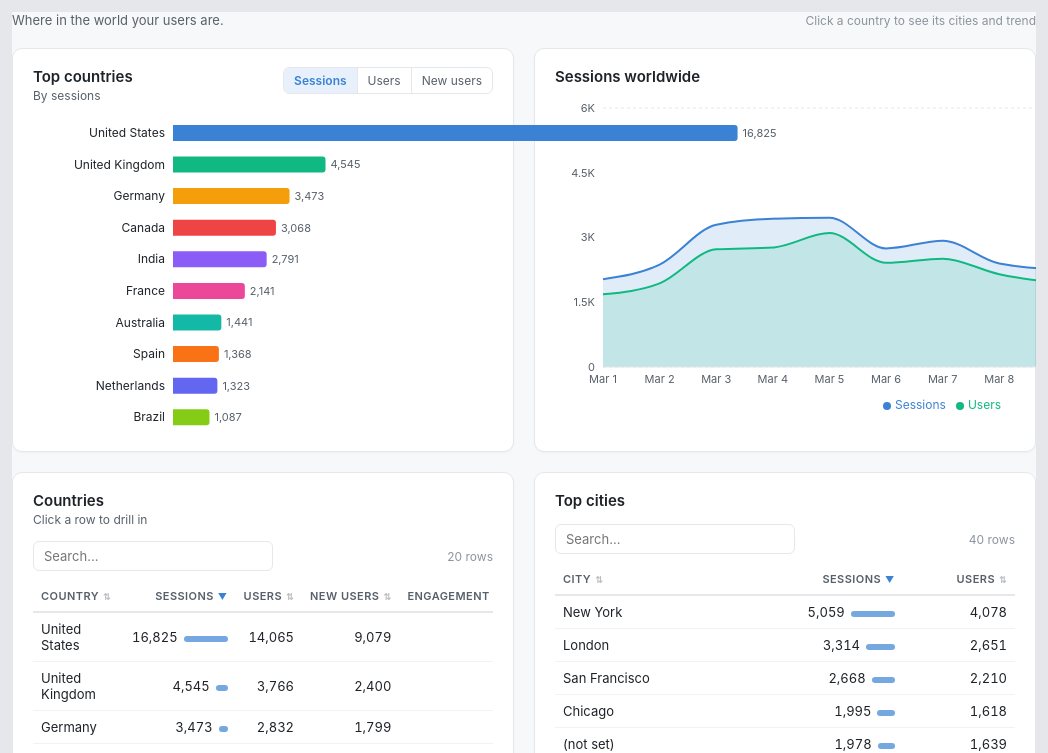
it: GeographyPage › drills in from the table and toggles back out
Click the row "United Kingdom 4,545 3,766 2,400 52.5%" at (288, 686), box [33,662,543,711]
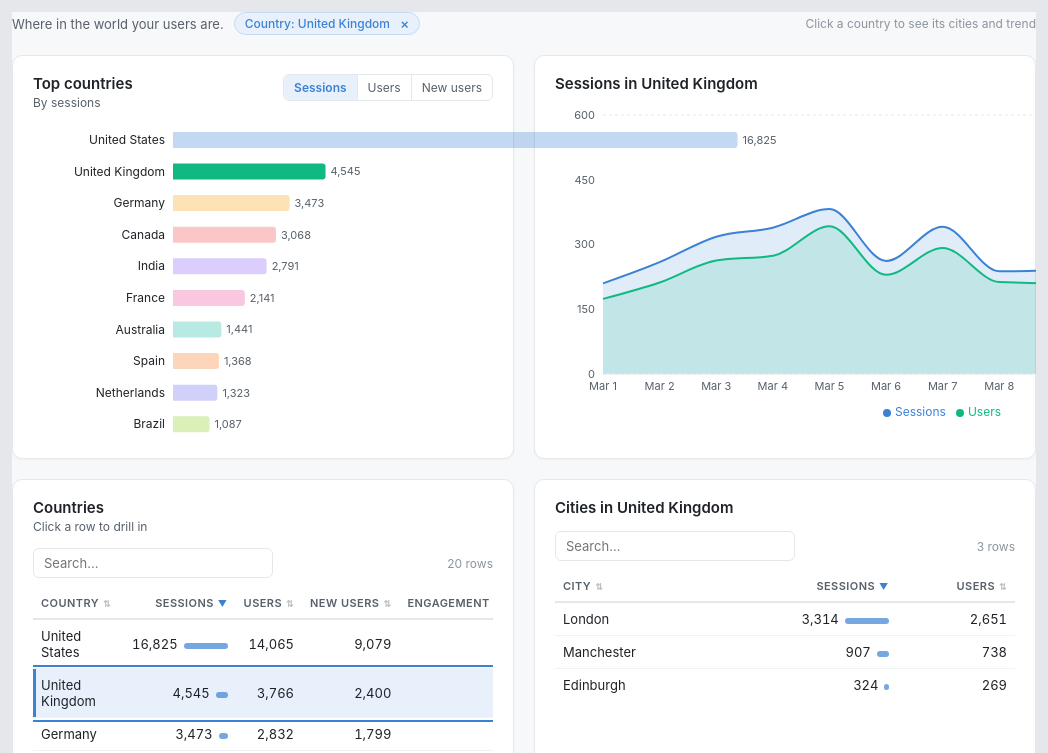
Click the row "United Kingdom 4,545 3,766 2,400 52.5%" at (288, 693), box [33,669,543,718]
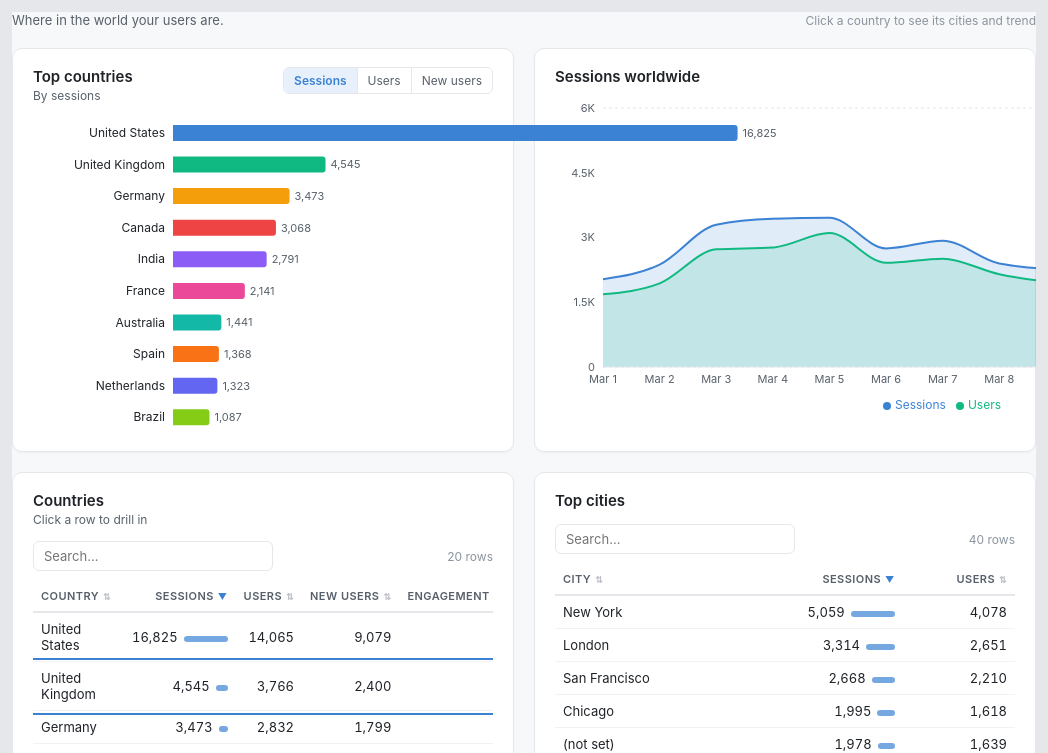
Check: the element "Sessions worldwide" is shown, box [534,48,1036,452]
